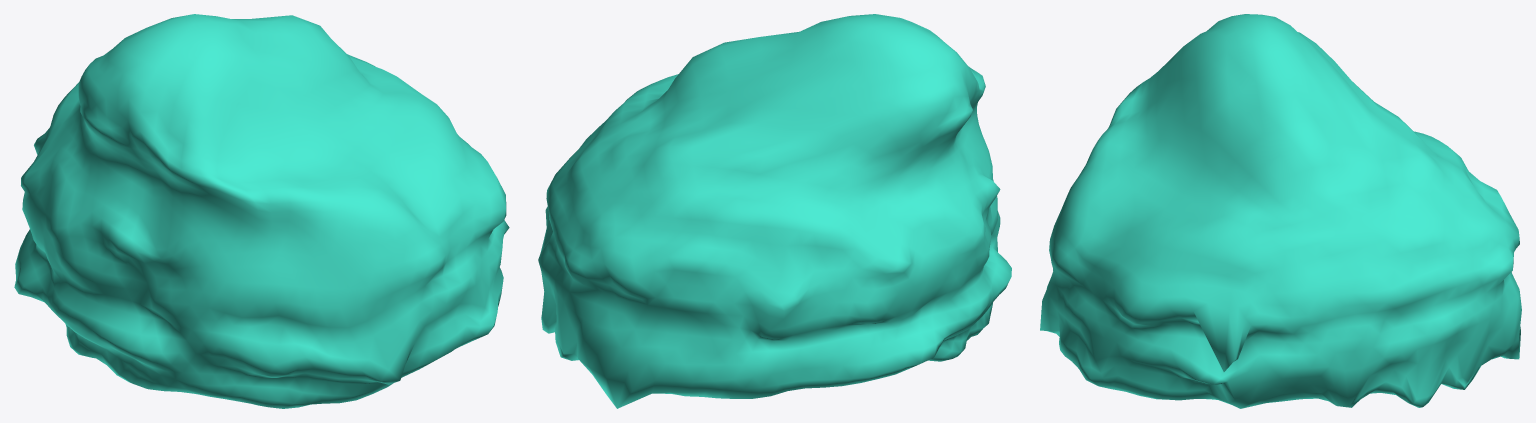
The model's file is heladochicle.fbx.
3 views of the same model, side by side, from view 1: azimuth 30°, elevation 25°; view 2: azimuth 150°, elevation 25°; view 3: azimuth 270°, elevation 25° (orthographic). The views are drawn at different scales.
Visible parts, largest first — view 1: Icosphere; view 2: Icosphere; view 3: Icosphere.
Part boxes in pixels (x1,y1,x2,y2): Icosphere: (14, 14, 509, 408); Icosphere: (538, 14, 1011, 408); Icosphere: (1040, 14, 1521, 408).
Bounding box in the file's own units: 6.49 × 5.04 × 7.23.
